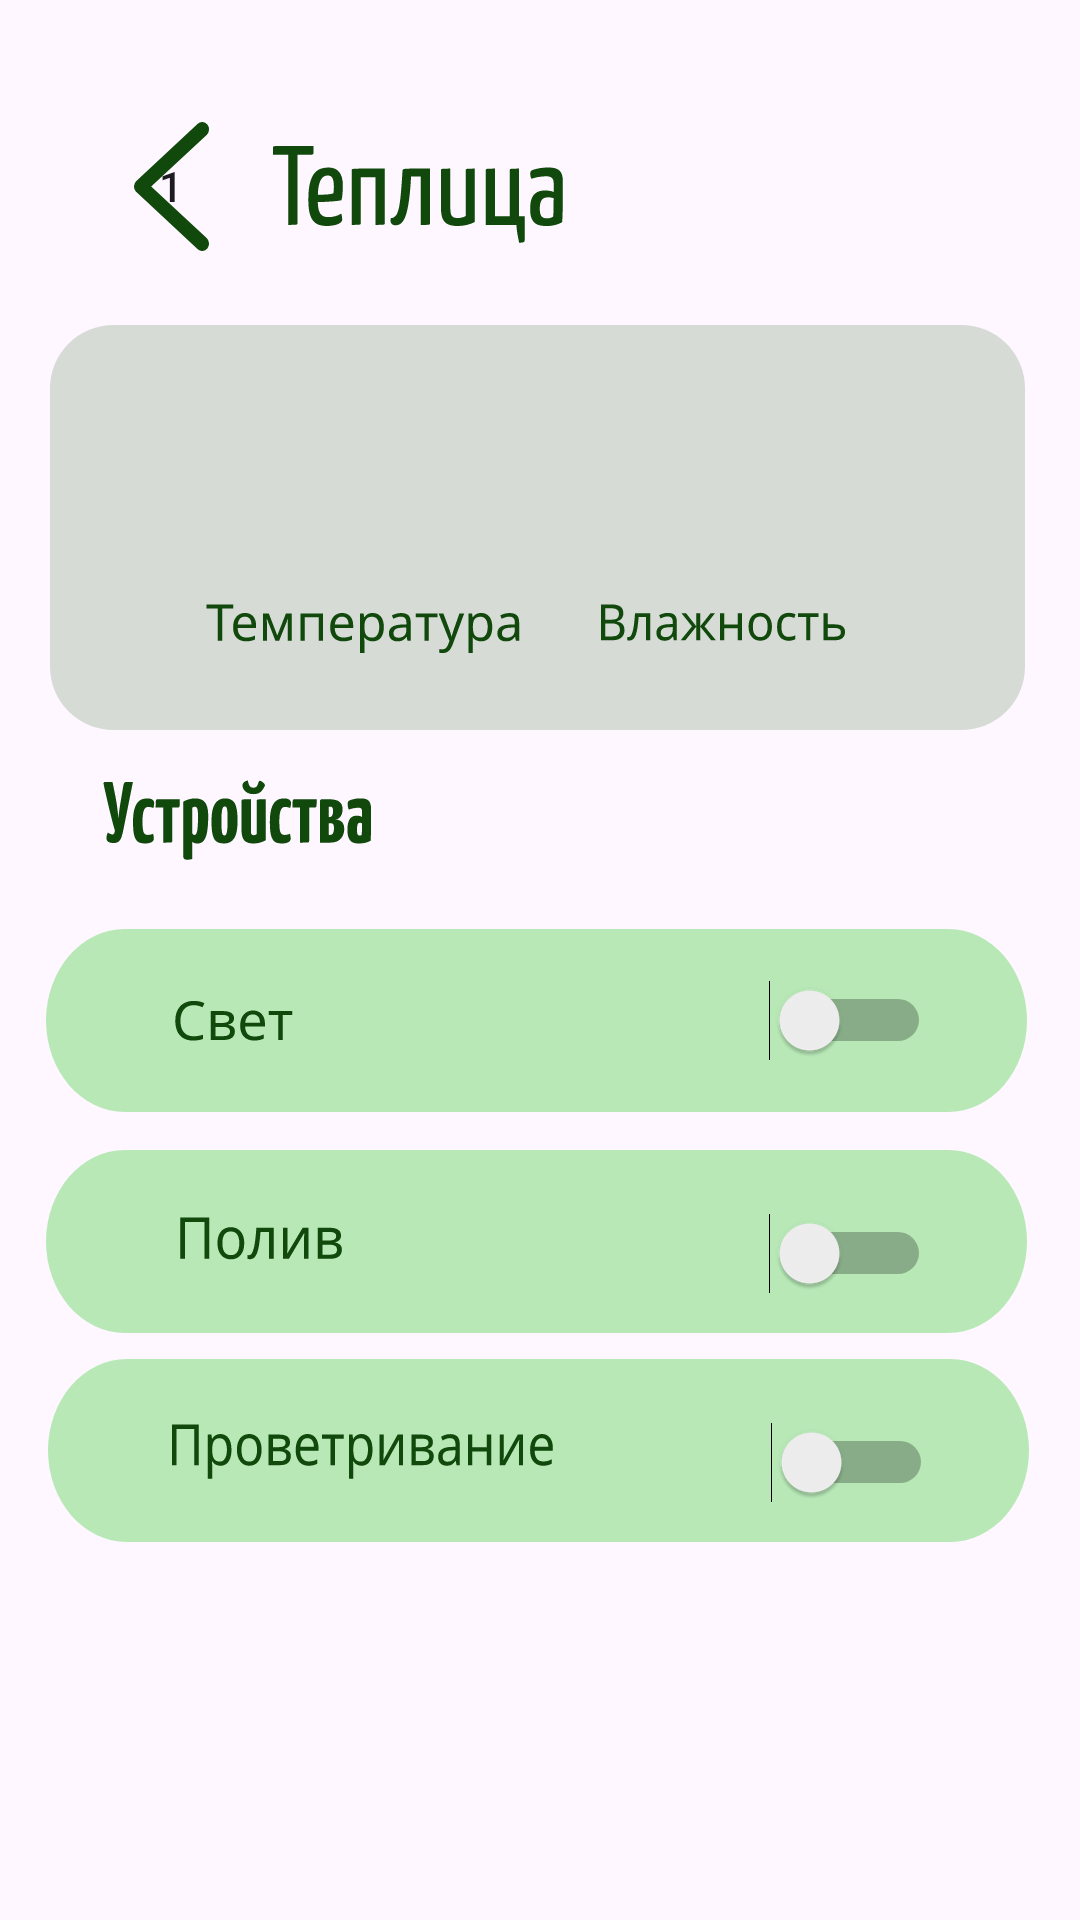

Screen size 1080px×1920px. Icon name, then its box in pixels as (x1, y1, x2, y2):
back: (134, 122, 209, 251)
